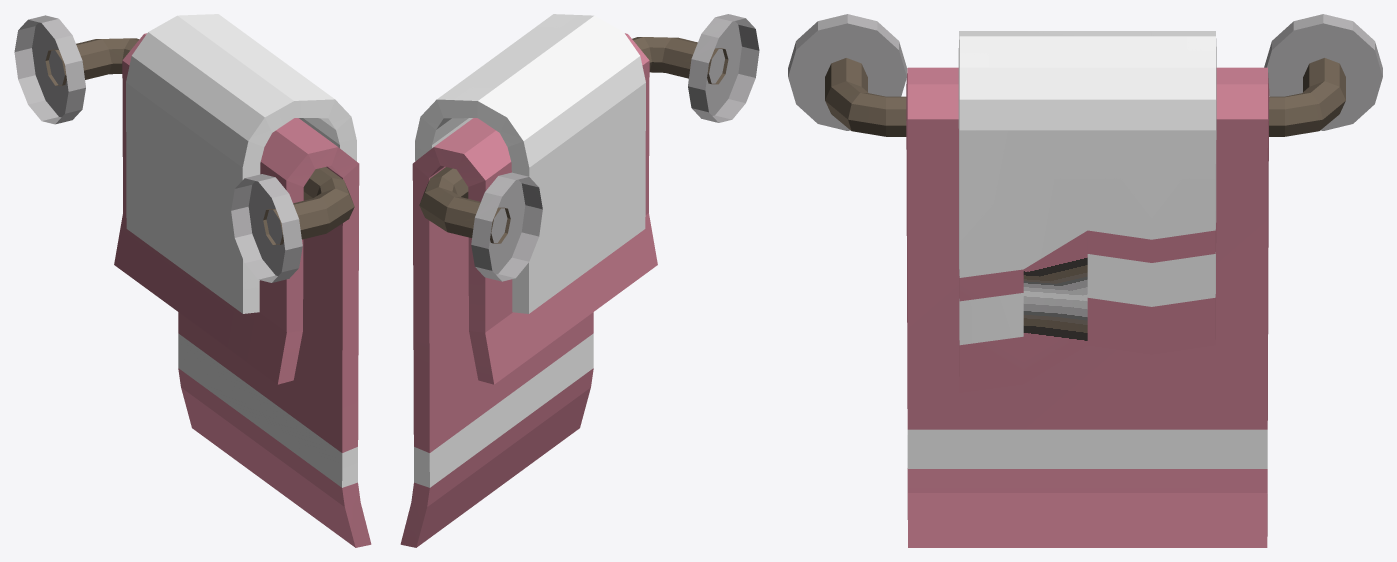
File: SM_Towels_01.glb
The picture shows the model from 3 angles, left to right: view 1: azimuth 30°, elevation 25°; view 2: azimuth 150°, elevation 25°; view 3: azimuth 270°, elevation 25°; orthographic projection. The views are drawn at different scales.
Parts seen in each view (by area): view 1: SM_Towels_01; view 2: SM_Towels_01; view 3: SM_Towels_01.
Boxes of the visible parts, left/top/right/bottom form: SM_Towels_01: left=14, top=14, right=371, bottom=547; SM_Towels_01: left=400, top=14, right=759, bottom=547; SM_Towels_01: left=788, top=14, right=1382, bottom=547.
Size of the model in its own units: 0.1847 by 0.5182 by 0.5786.
1 material, 1 textured.
